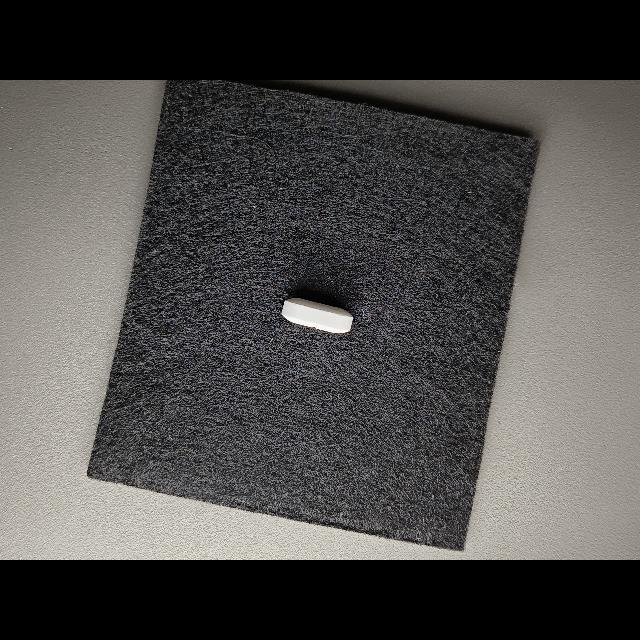Intact Pill: (281, 298, 353, 333)
